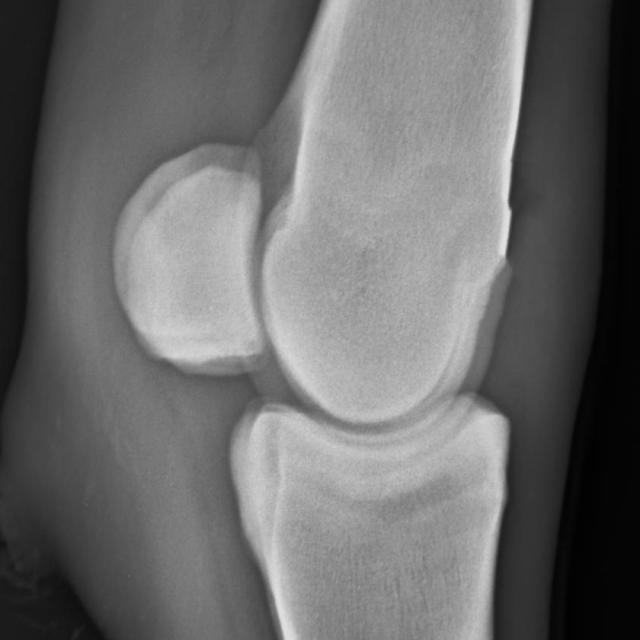bone remodeling: (425, 130, 575, 344)
